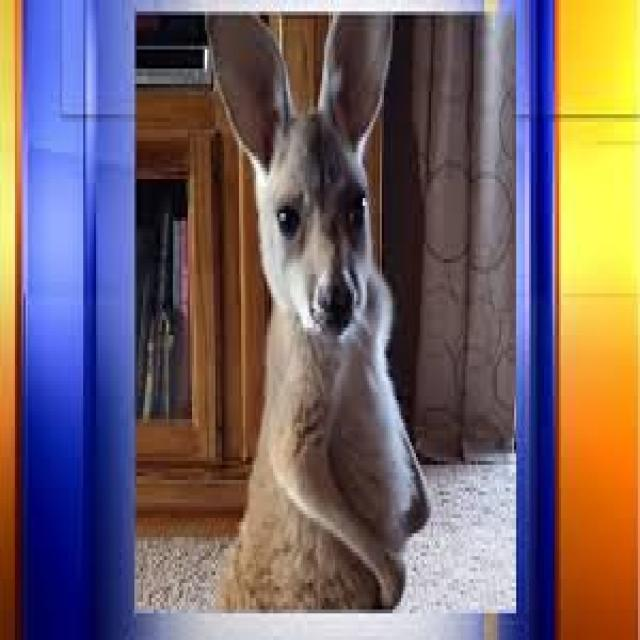Kangaroo: (195, 10, 432, 615)
